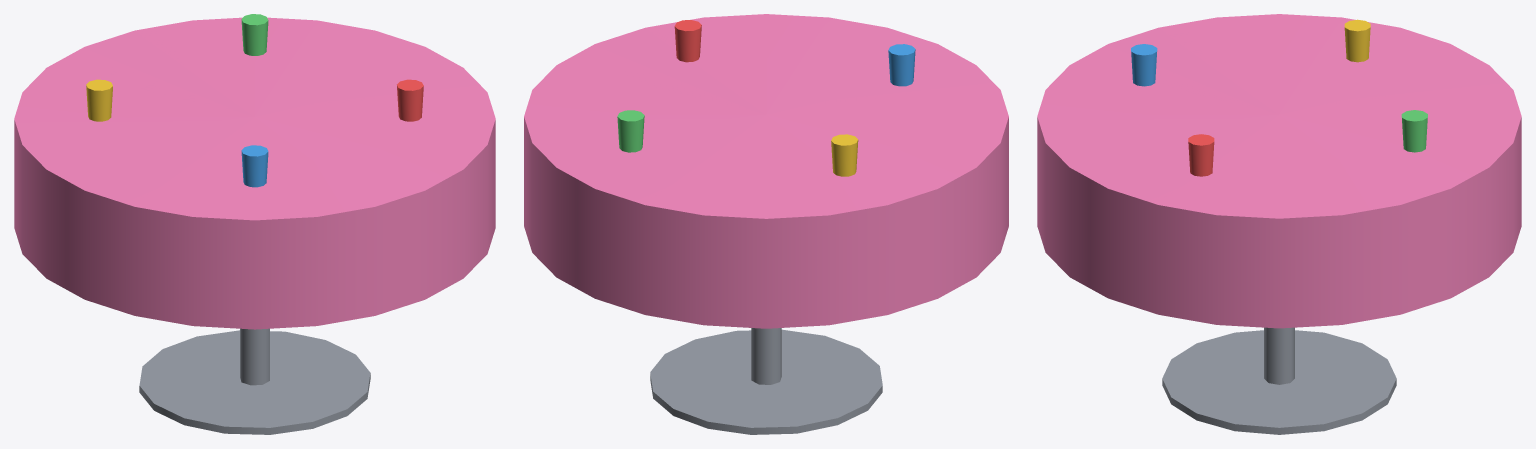
The model's file is party_table.glb.
3 views of the same model, side by side, from view 1: azimuth 30°, elevation 25°; view 2: azimuth 150°, elevation 25°; view 3: azimuth 270°, elevation 25° (orthographic).
Visible parts, largest first — view 1: main; view 2: main; view 3: main.
Boxes of the visible parts, x1,y1,x2,y2 form: main: [14, 14, 495, 434]; main: [524, 14, 1008, 434]; main: [1037, 14, 1521, 434].
Size of the model in its own units: 1.24 by 0.855 by 1.24.
